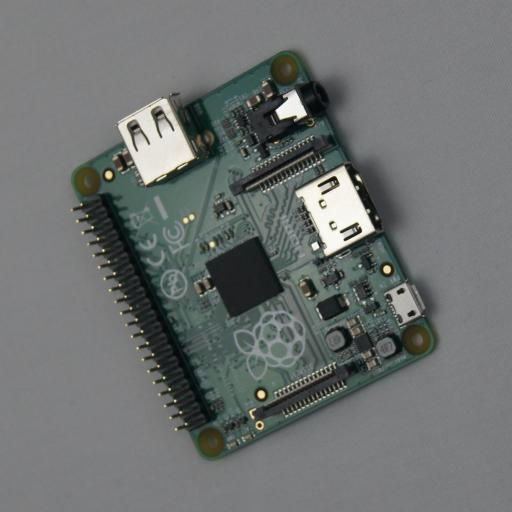Raspberry Pi A-: (72, 50, 439, 460)
